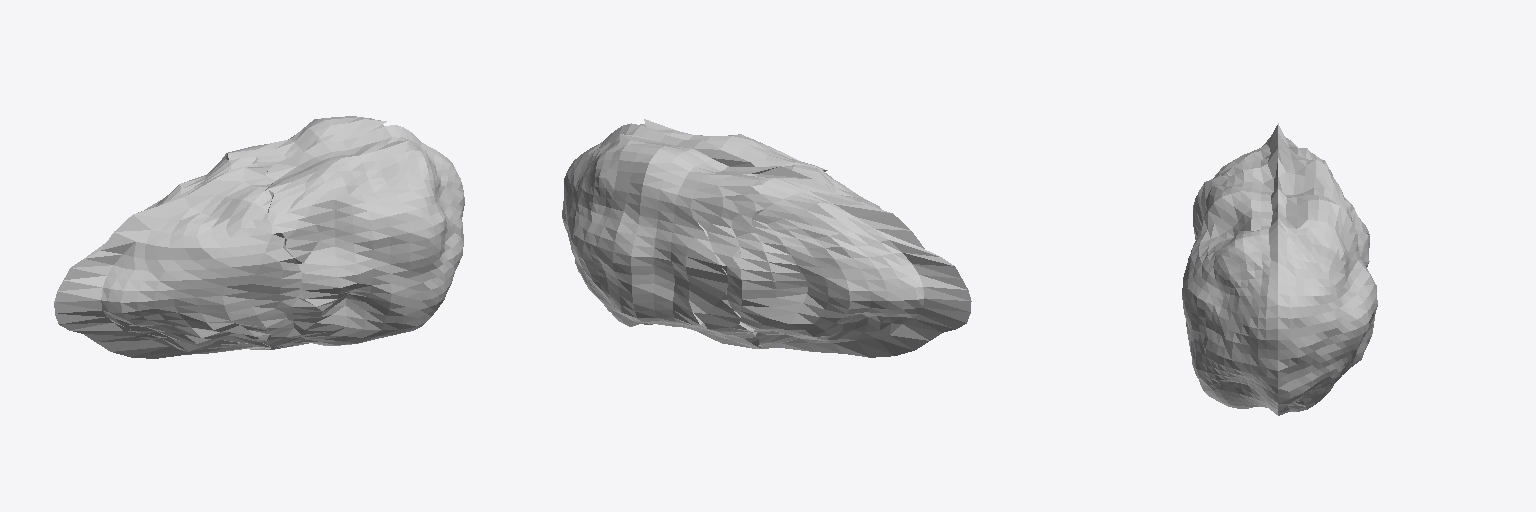
Rendered from flint.obj.
The picture shows the model from 3 angles: view 1: azimuth 30°, elevation 25°; view 2: azimuth 150°, elevation 25°; view 3: azimuth 270°, elevation 25°; orthographic projection.
Visible parts, largest first — view 1: Cube; view 2: Cube; view 3: Cube.
Part boxes in pixels (bbox=[...]): Cube: bbox=[54, 116, 464, 358]; Cube: bbox=[562, 119, 971, 357]; Cube: bbox=[1182, 123, 1377, 415].
Size of the model in its own units: 0.1361 by 0.0641 by 0.057.